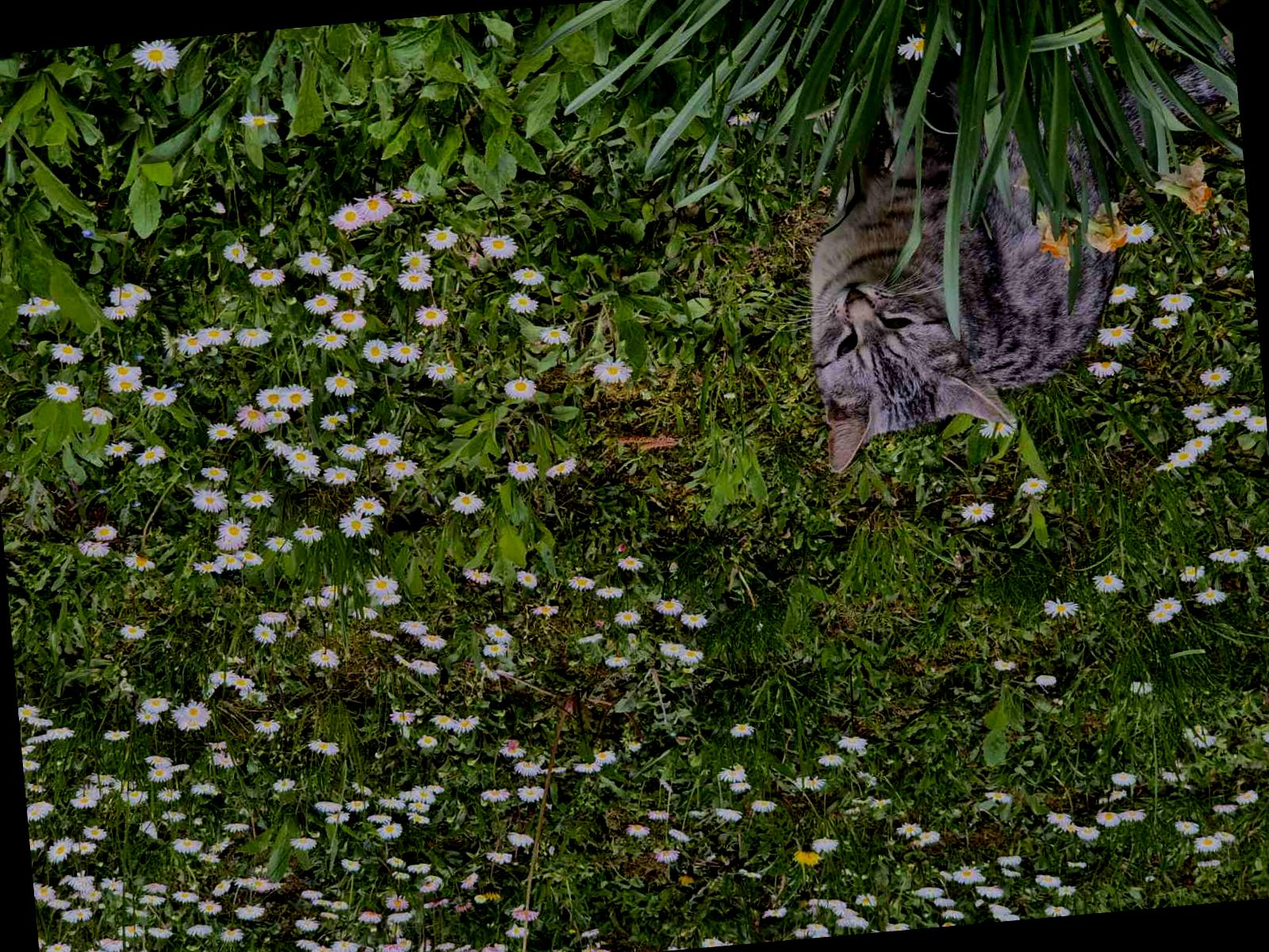macka: (784, 0, 1268, 477)
